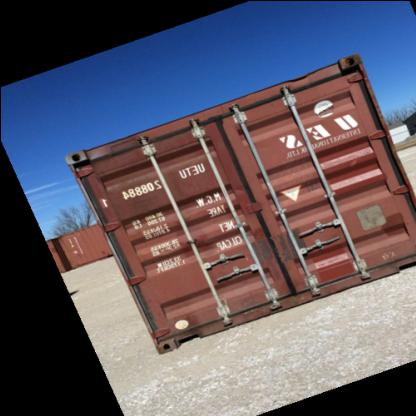Damage: (246, 228, 302, 272), (283, 66, 320, 92), (370, 242, 401, 268), (341, 52, 363, 78), (68, 146, 92, 168), (341, 146, 358, 174), (316, 97, 338, 116), (226, 176, 247, 194)
